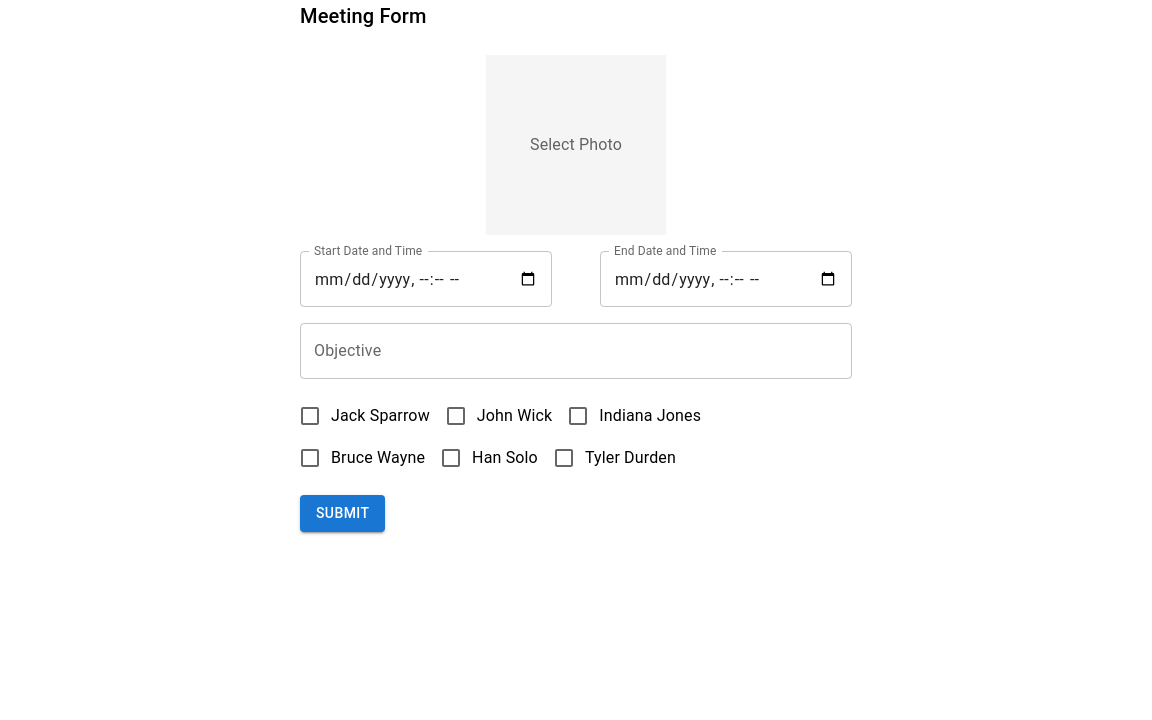
MeetingPage › Should show error on try to register past meeting
In the field labelled "Objective": (576, 351) [300, 323, 852, 379], type "New objective"
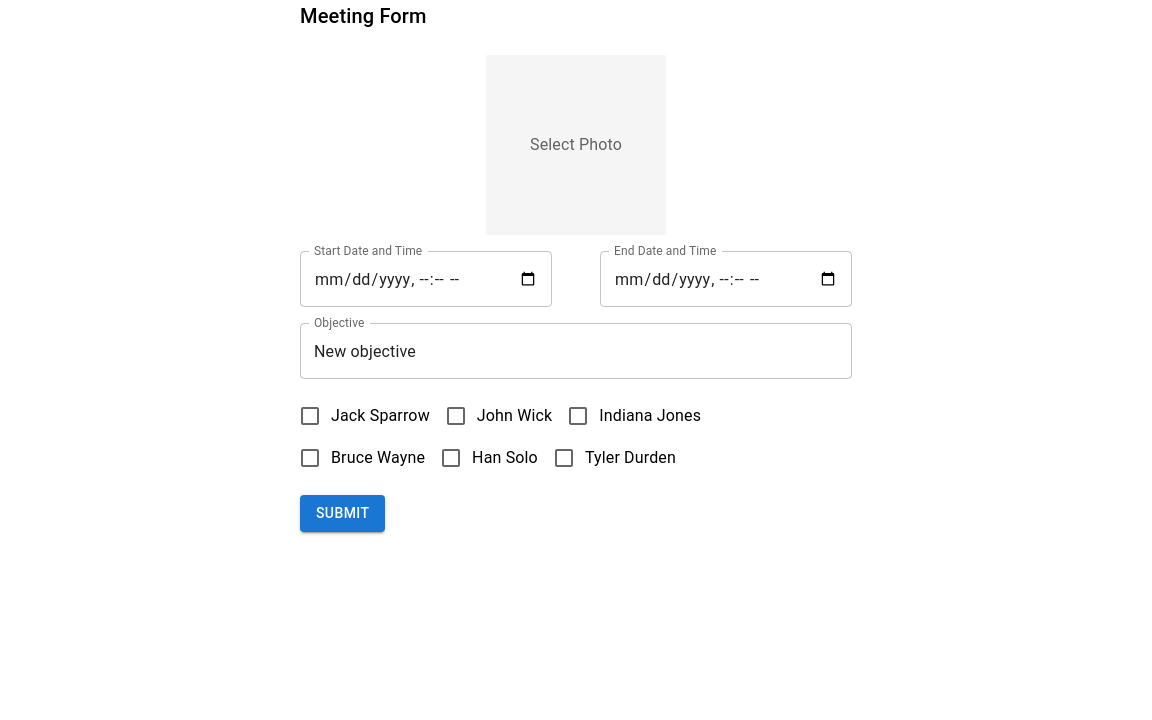
In the field labelled "Start Date and Time": (426, 279) [300, 251, 552, 307], type "2001-03-15T13:00"
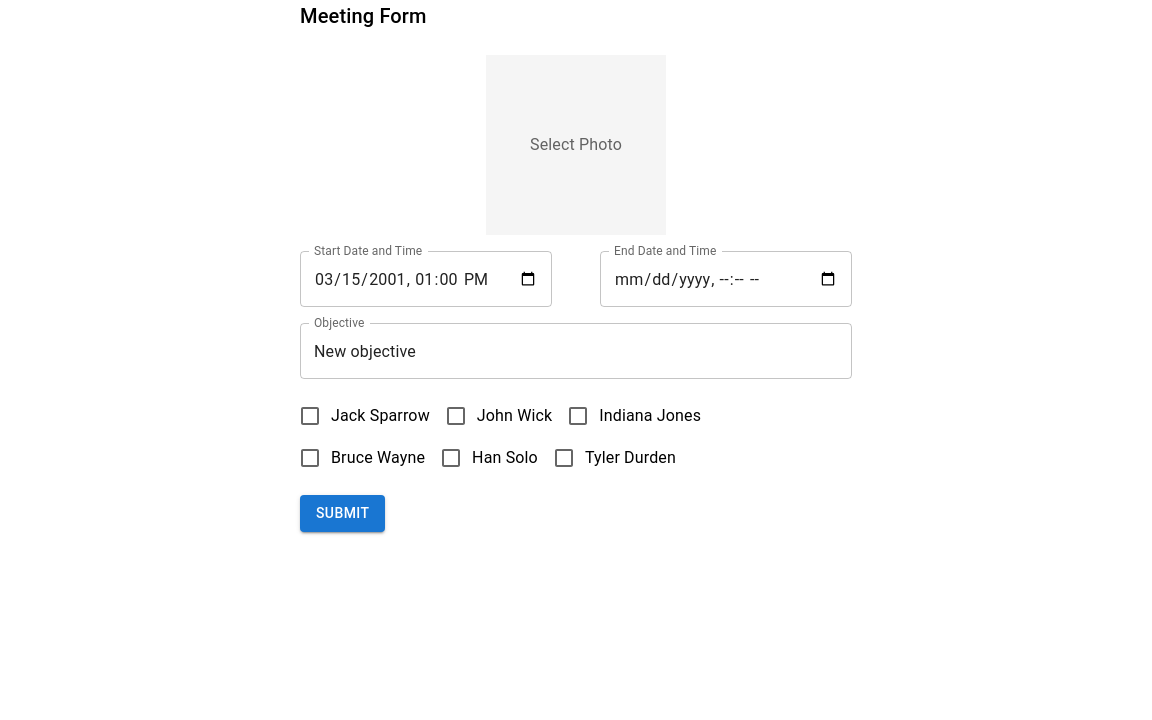
In the field labelled "End Date and Time": (726, 279) [600, 251, 852, 307], type "2001-01-15T13:01"
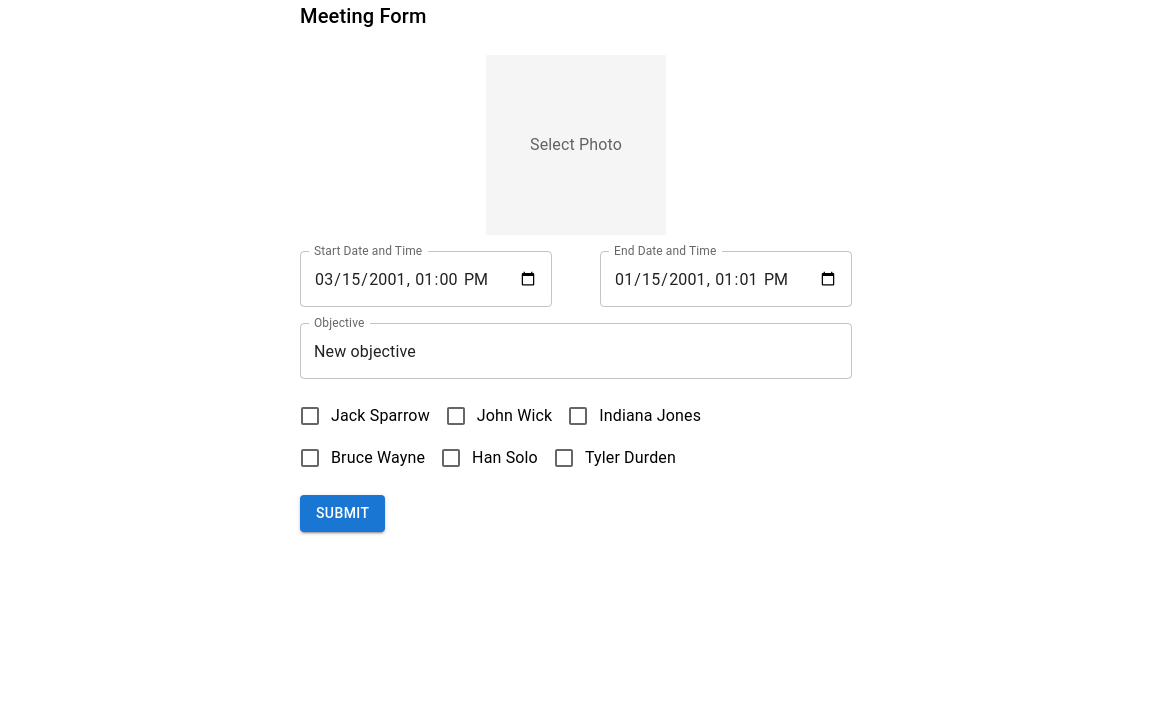
Click the checkbox labelled "John Wick": (498, 416) [444, 404, 552, 428]
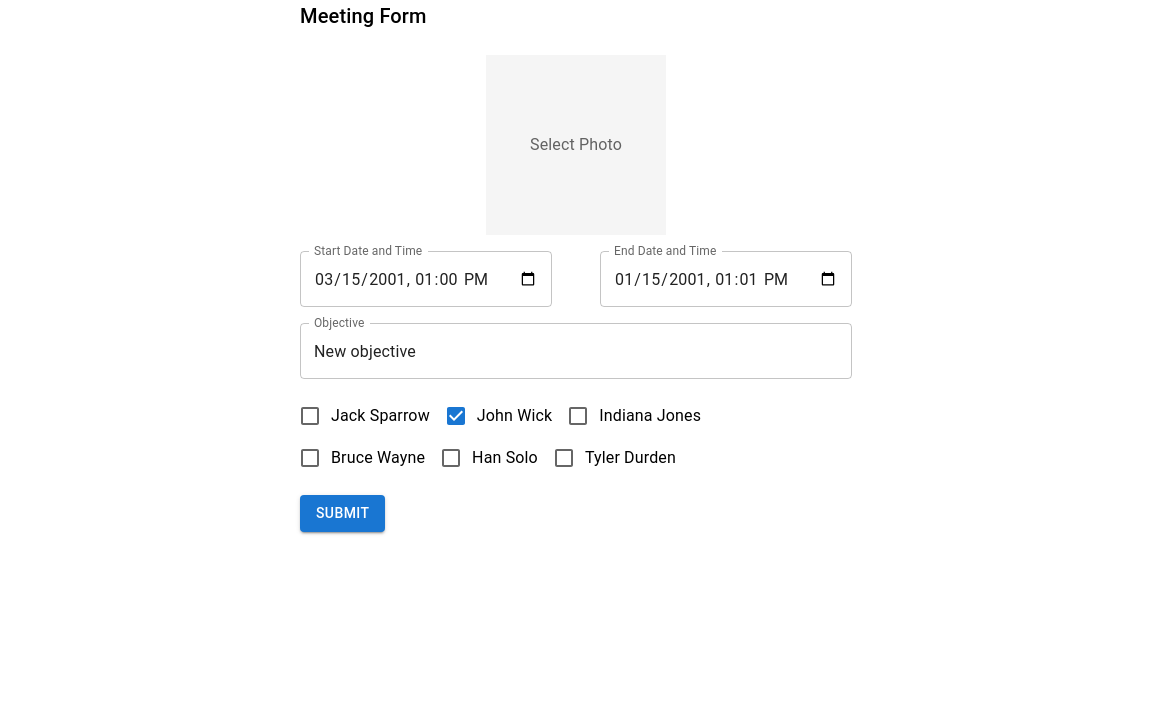
Click the button: (343, 513) [300, 495, 385, 532]
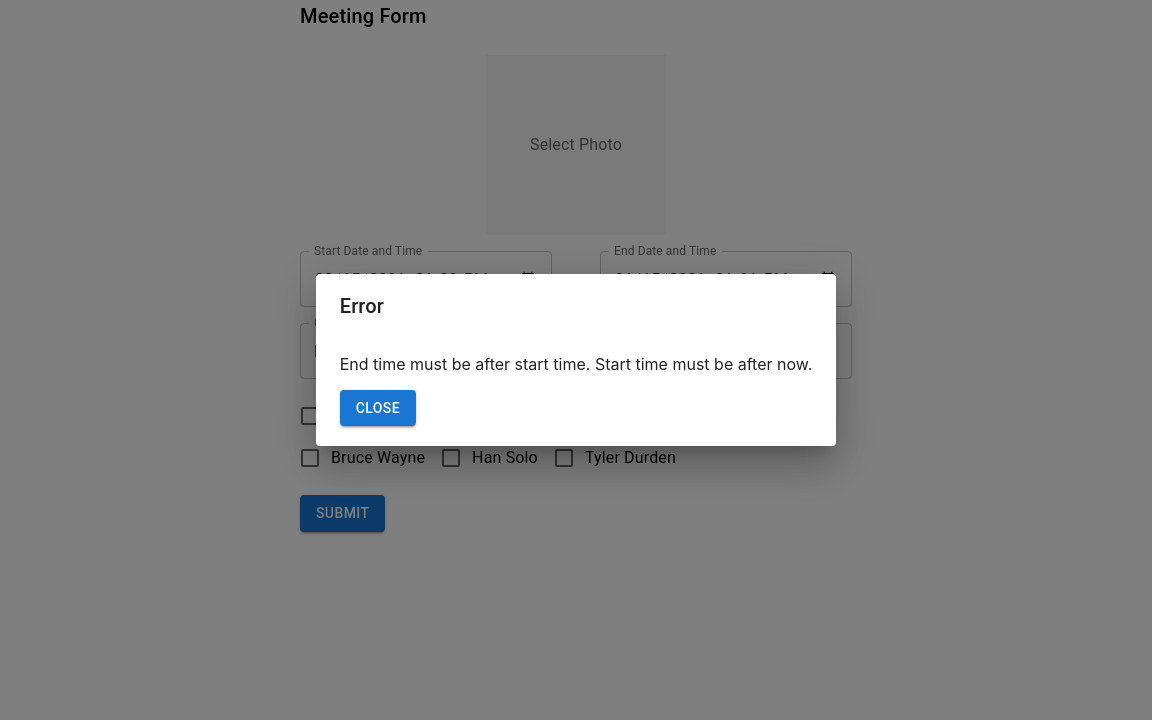
Expected: the element with test id "errorModal" is shown
